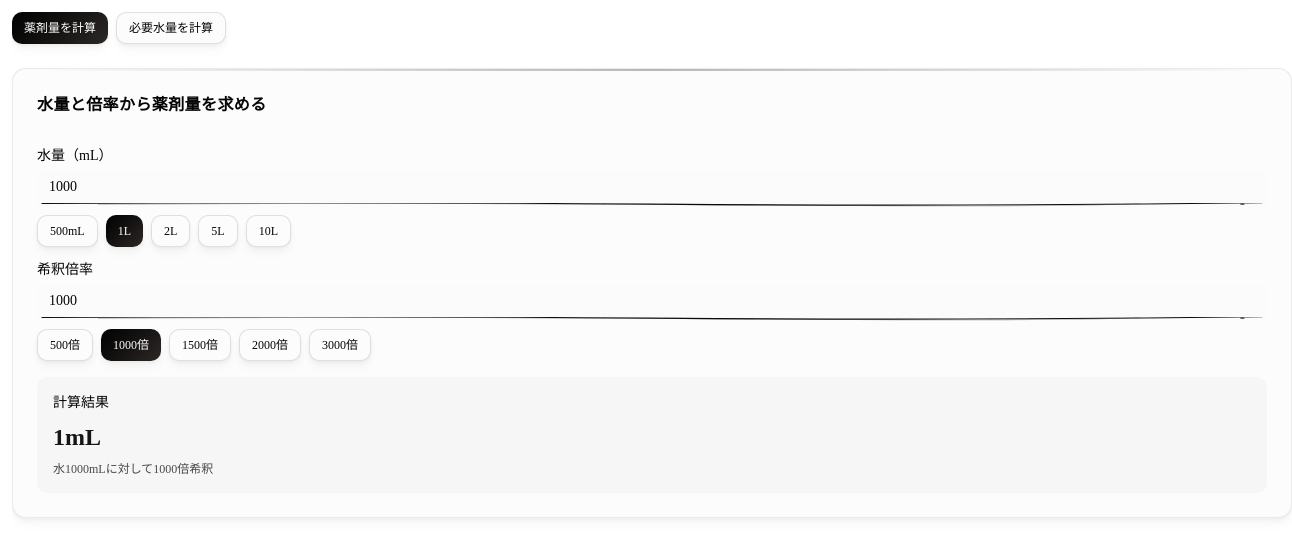
it: DilutionCalculator › 逆算モード（薬剤量＋倍率から必要水量を求める） › モード切替ボタンで「必要水量を計算」に切り替わる
The width and height of the screenshot is (1292, 537).
Click the button "必要水量を計算": (171, 28) [116,12,226,44]
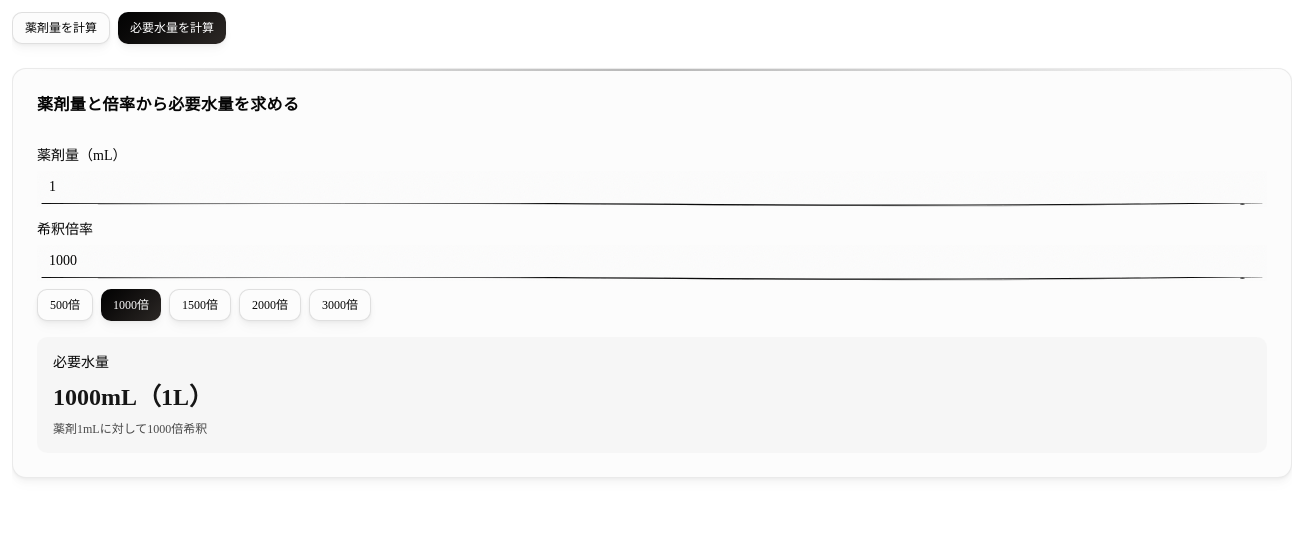
Expected: the text "薬剤量と倍率から必要水量を求める" is shown, [37,96,299,113]
